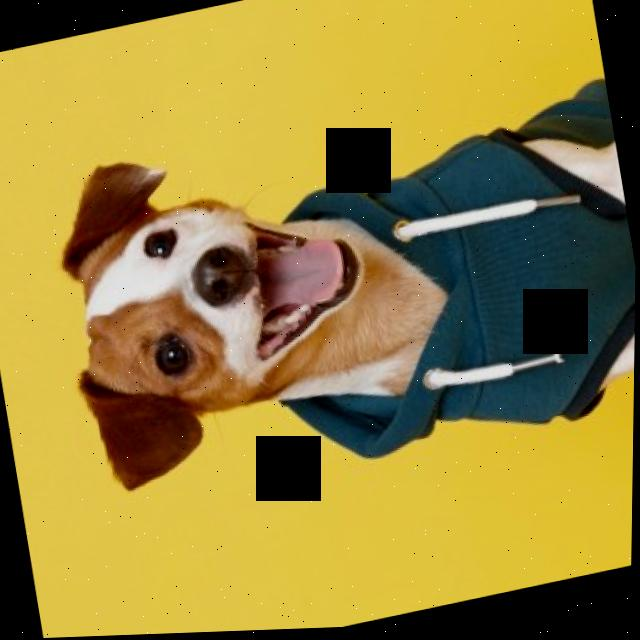cloth: (283, 87, 637, 459)
